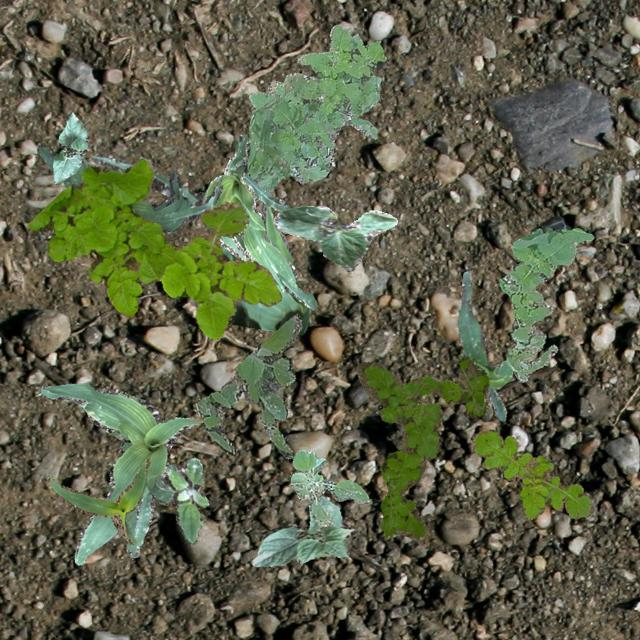crop: (92, 153, 310, 334), (39, 382, 198, 564), (202, 134, 316, 308), (36, 144, 222, 230), (46, 458, 150, 544), (456, 270, 512, 420), (273, 204, 397, 270), (250, 494, 354, 566), (52, 112, 88, 184)
weed: (27, 156, 280, 338), (246, 23, 386, 202), (354, 354, 488, 538), (192, 314, 302, 458), (498, 226, 592, 382), (470, 428, 590, 518), (290, 448, 370, 526), (146, 457, 208, 542)
